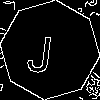J: (25, 25, 56, 74)
